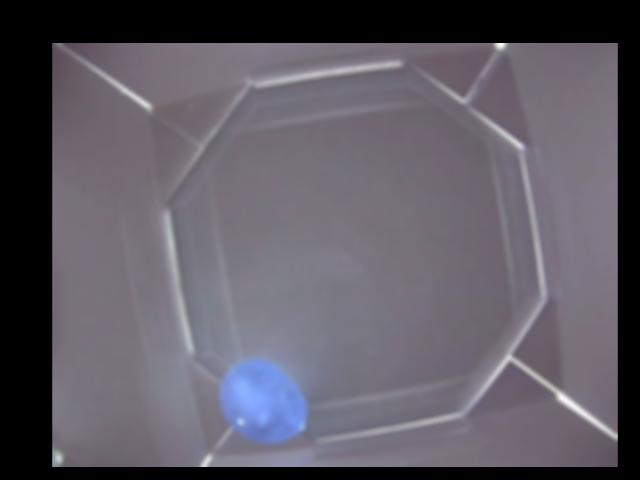Potato: (216, 357, 307, 441)
